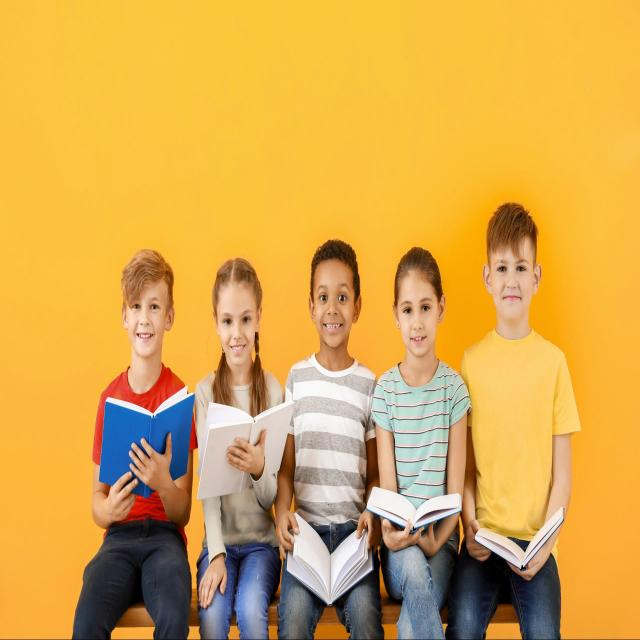child: (457, 200, 577, 640), (76, 247, 196, 640), (275, 238, 378, 640), (190, 254, 285, 640), (376, 244, 468, 640)
